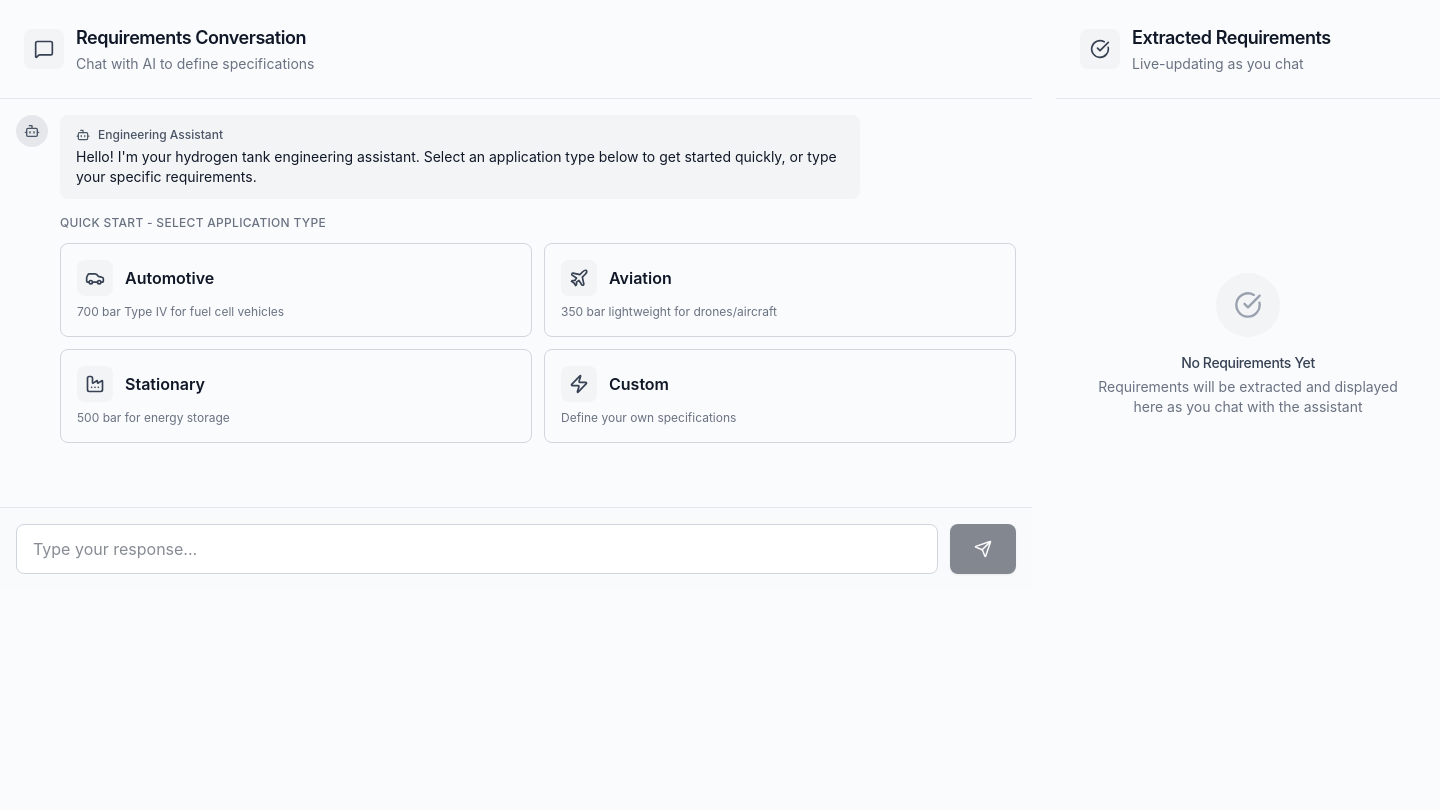
it: RequirementsChat › displays suggestions when provided
Type "Test" into the field labelled "Type your response" at {"x": 477, "y": 549}, box [16,524,938,574]
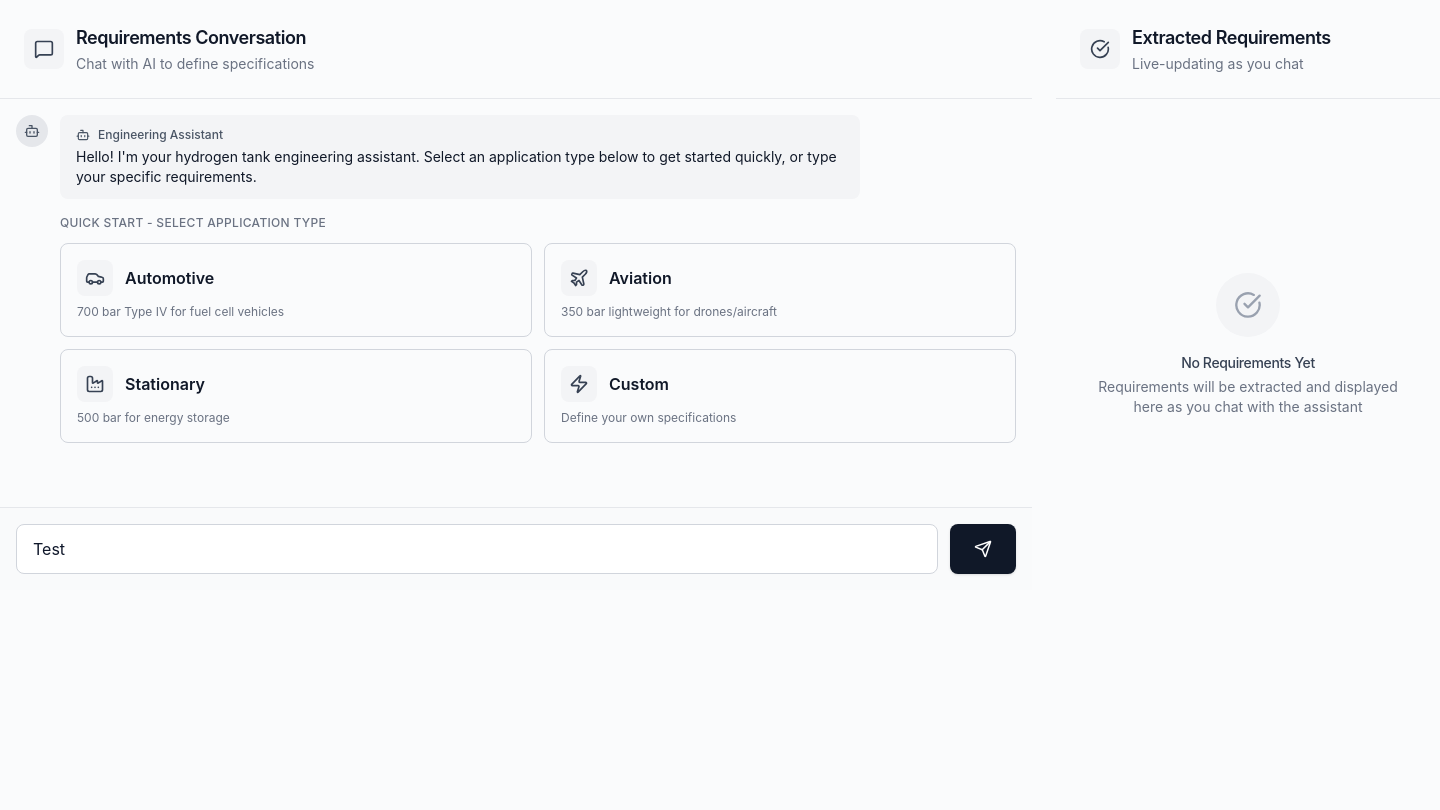
Click the button named "send message" at {"x": 983, "y": 549}, box [950,524,1016,574]
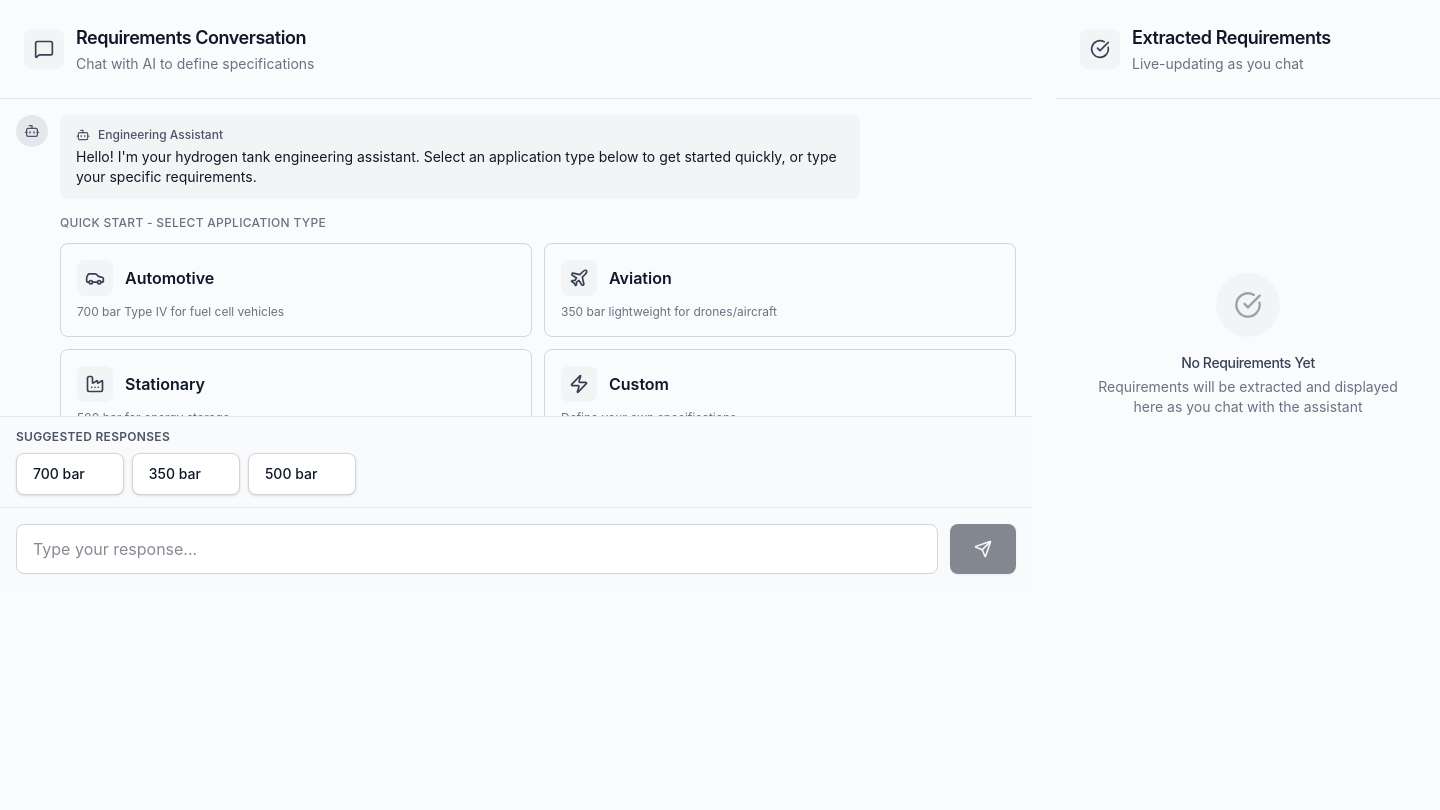
expect the text "700 bar" is shown: met, box [33,464,85,484]
expect the text "350 bar" is shown: met, box [149,464,201,484]
expect the text "500 bar" is shown: met, box [265,464,317,484]
